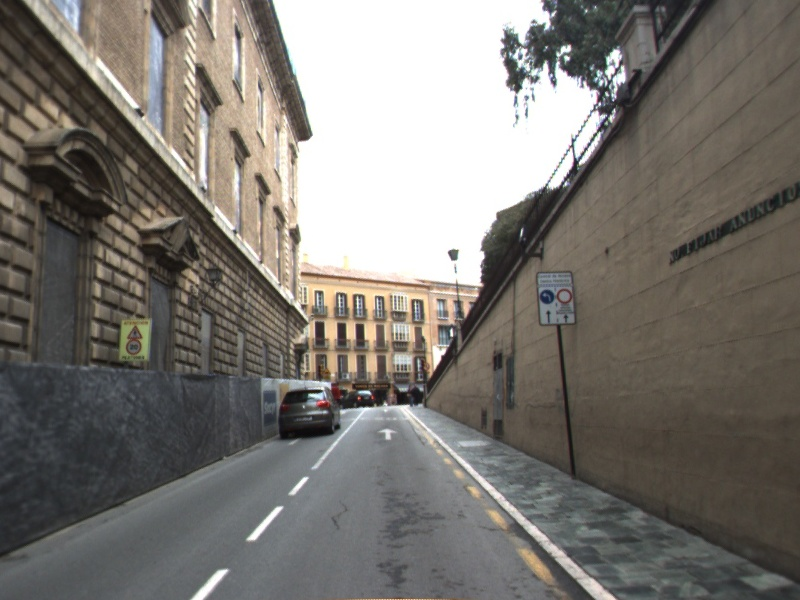STRAIGHT: (375, 426, 400, 442)
